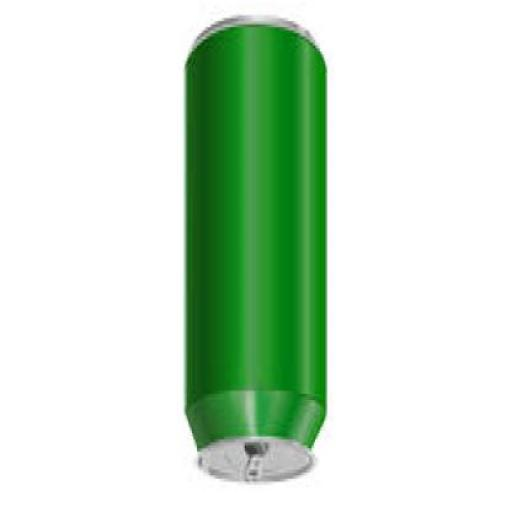metal: (186, 24, 330, 490)
